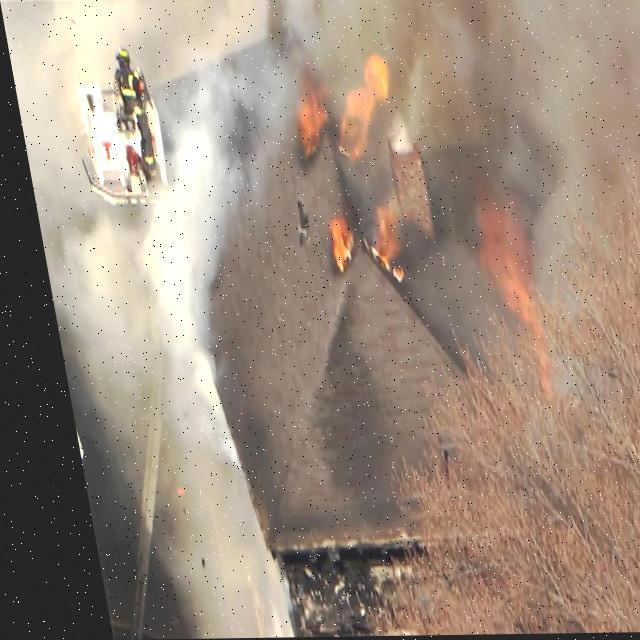Fire: (278, 55, 589, 423)
